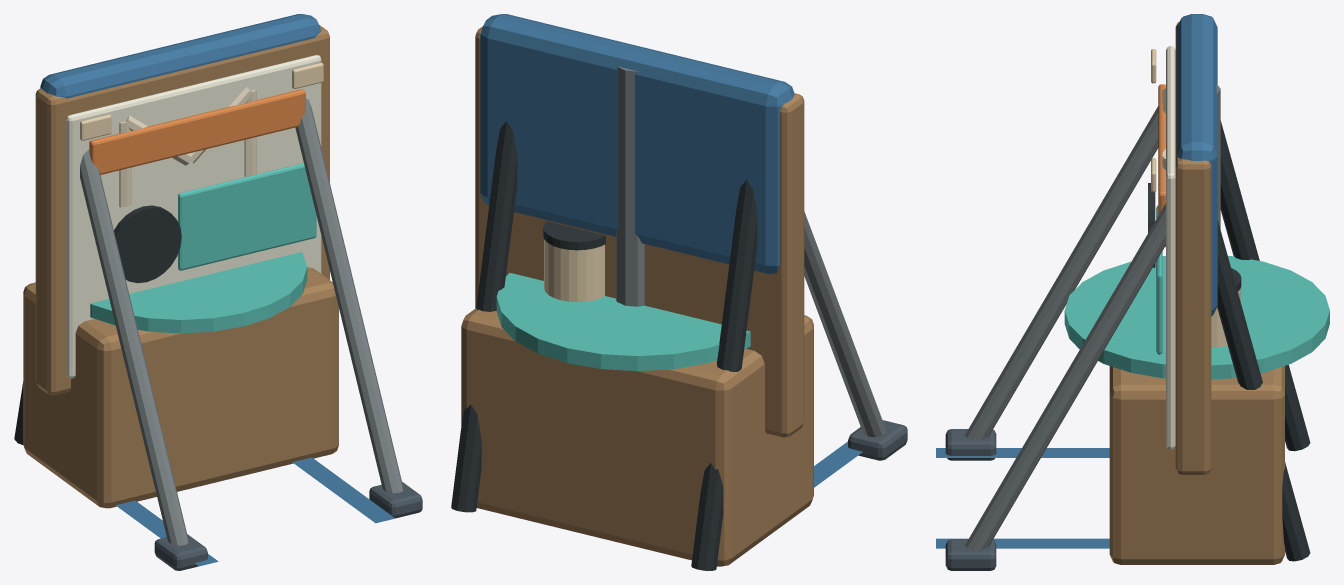
File: city-guide-center.glb
The picture shows the model from 3 angles, left to right: view 1: azimuth 30°, elevation 25°; view 2: azimuth 150°, elevation 25°; view 3: azimuth 270°, elevation 25°; orthographic projection. The views are drawn at different scales.
Parts seen in each view (by area): view 1: Round steel tray support, Outdoor poster A-board paper, Folded support.002, Outdoor poster A-board backing, Teal pasted corner, Enamel metro plate, Enamel tea tray, Ink band.004, Print line, Rubber foot.002, Transit M in relief, Tape clip; view 2: Round steel tray support, Enamel metro plate, Outdoor poster A-board backing, Print line, Enamel tea tray, Enamel pole, Folded support.002, Paper tea cup, Rubber foot.002, Dark cup rim; view 3: Round steel tray support, Folded support.002, Enamel tea tray, Outdoor poster A-board backing, Enamel metro plate, Print line, Outdoor poster A-board paper, Rubber foot.002, Ink band.004, Teal pasted corner, Enamel pole.
Part boxes in pixels (left/top/right/bottom): Round steel tray support: left=23, top=267, right=338, bottom=508; Outdoor poster A-board paper: left=66, top=55, right=321, bottom=378; Folded support.002: left=80, top=98, right=403, bottom=545; Outdoor poster A-board backing: left=35, top=25, right=329, bottom=395; Teal pasted corner: left=178, top=163, right=316, bottom=270; Enamel metro plate: left=40, top=14, right=395, bottom=566; Enamel tea tray: left=90, top=252, right=307, bottom=333; Ink band.004: left=89, top=89, right=305, bottom=174; Print line: left=14, top=205, right=181, bottom=445; Rubber foot.002: left=154, top=482, right=422, bottom=570; Transit M in relief: left=119, top=87, right=256, bottom=207; Tape clip: left=80, top=62, right=323, bottom=140; Round steel tray support: left=461, top=308, right=813, bottom=566; Enamel metro plate: left=480, top=14, right=862, bottom=487; Outdoor poster A-board backing: left=475, top=26, right=804, bottom=437; Print line: left=451, top=121, right=757, bottom=570; Enamel tea tray: left=496, top=273, right=750, bottom=371; Enamel pole: left=616, top=66, right=644, bottom=306; Folded support.002: left=804, top=211, right=886, bottom=437; Paper tea cup: left=544, top=239, right=604, bottom=302; Rubber foot.002: left=848, top=420, right=907, bottom=460; Dark cup rim: left=543, top=221, right=605, bottom=250; Round steel tray support: left=1109, top=366, right=1284, bottom=564; Folded support.002: left=965, top=106, right=1165, bottom=549; Enamel tea tray: left=1064, top=256, right=1329, bottom=379; Outdoor poster A-board backing: left=1175, top=22, right=1211, bottom=474; Enamel metro plate: left=936, top=14, right=1217, bottom=548; Print line: left=1148, top=121, right=1310, bottom=561; Outdoor poster A-board paper: left=1166, top=46, right=1175, bottom=449; Rubber foot.002: left=945, top=429, right=996, bottom=570; Ink band.004: left=1158, top=84, right=1165, bottom=215; Teal pasted corner: left=1156, top=205, right=1162, bottom=354; Enamel pole: left=1216, top=84, right=1220, bottom=229.
Bounding box in the file's own units: 0.88 × 1.22 × 1.01.
